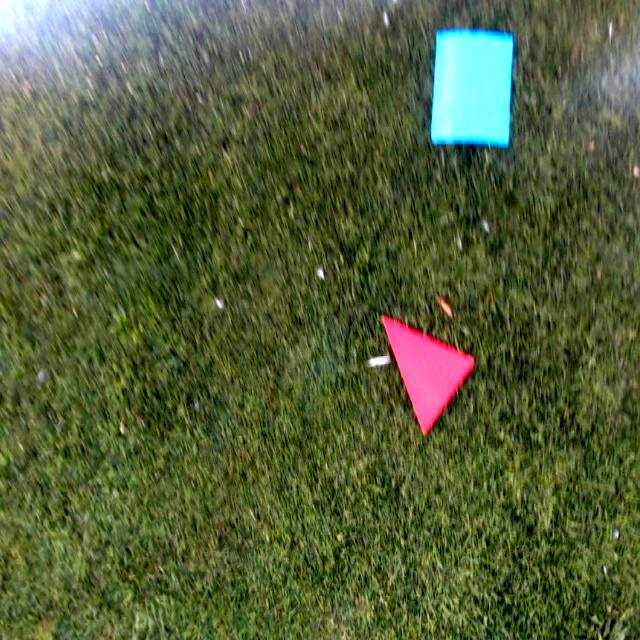blue_square: (431, 33, 513, 145)
red_triangle: (382, 314, 476, 439)
